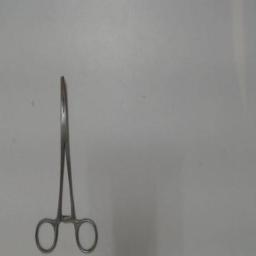Crile Artery Forceps: (32, 70, 100, 256)
